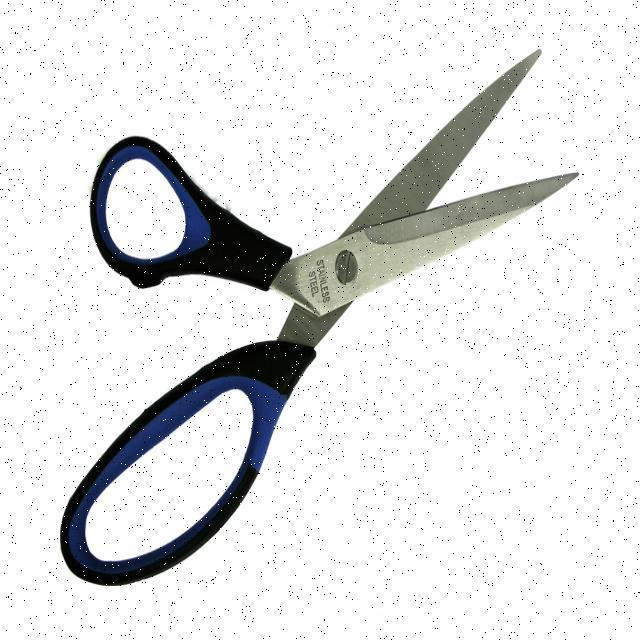scissors: (56, 44, 582, 588)
